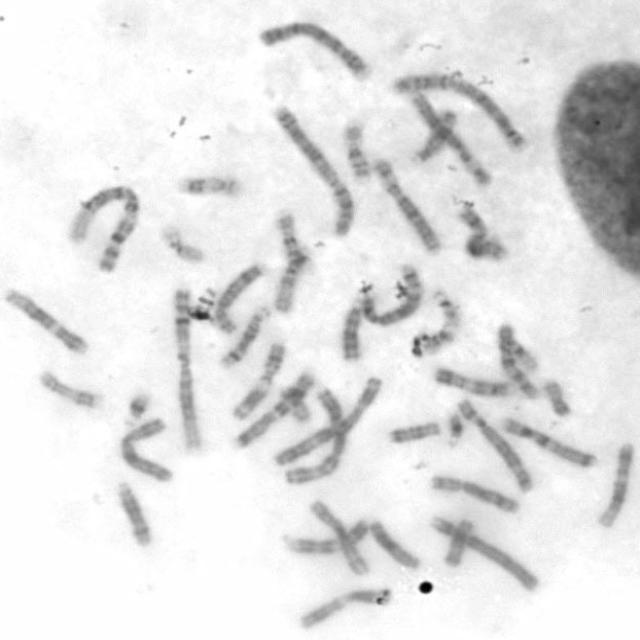A1: (64, 181, 141, 278), (169, 283, 205, 454)
A2: (388, 70, 528, 154), (271, 104, 360, 235)
A3: (267, 371, 384, 466), (283, 385, 348, 488)
B4: (426, 512, 539, 593), (257, 19, 374, 82)
B5: (455, 397, 534, 496), (358, 262, 425, 326)
C10: (304, 497, 369, 577), (497, 321, 540, 401)
C11: (226, 338, 286, 423), (296, 586, 395, 634)
C12: (1, 286, 91, 358), (594, 440, 635, 529)
C6: (410, 92, 498, 190), (370, 156, 444, 257)
C7: (230, 368, 317, 450), (498, 415, 598, 469)
C8: (427, 474, 524, 516), (212, 262, 263, 334)
C9: (288, 516, 369, 556), (436, 365, 514, 400)
D13: (364, 516, 421, 570), (340, 296, 364, 363)
D14: (218, 303, 271, 369), (114, 482, 156, 549)
D15: (411, 109, 457, 165), (272, 252, 308, 314)
E16: (341, 117, 374, 182), (274, 208, 312, 264)
E17: (36, 367, 103, 411), (174, 169, 246, 200)
E18: (440, 516, 472, 568), (385, 420, 442, 446)
F19: (159, 224, 210, 268), (505, 335, 538, 375)
F20: (540, 378, 575, 418), (280, 385, 312, 424)
G21: (122, 390, 154, 428), (444, 409, 465, 450)
G22: (431, 287, 462, 327), (421, 328, 457, 357)
X: (118, 416, 176, 487), (455, 201, 511, 262)
